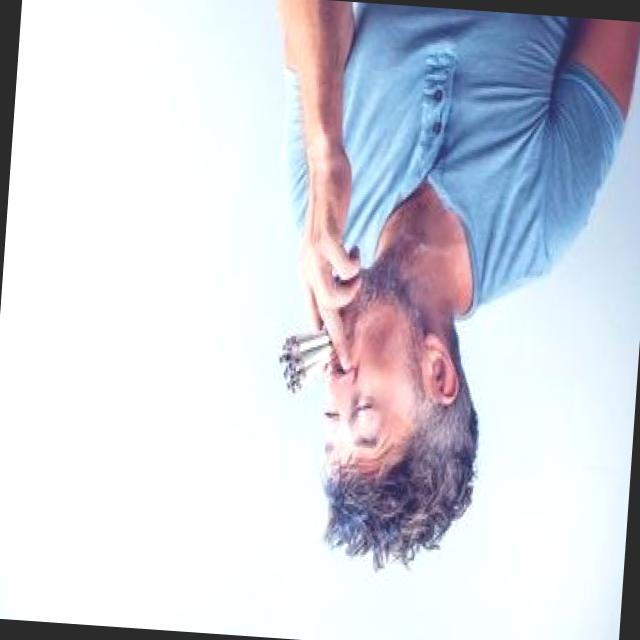cigarette: (268, 297, 358, 392)
